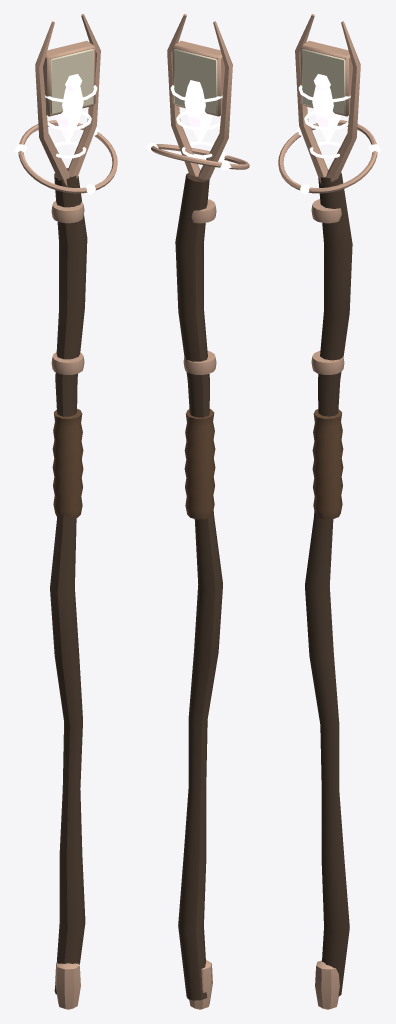
The model's file is fa_unwritten_chronicle.glb.
3 renders of one model, left to right at view 1: azimuth 30°, elevation 25°; view 2: azimuth 150°, elevation 25°; view 3: azimuth 330°, elevation 25°, orthographic.
Visible parts, largest first — view 1: fa_unwritten_chronicle; view 2: fa_unwritten_chronicle; view 3: fa_unwritten_chronicle.
Part boxes in pixels (box(x1,y1,x2,y2)): fa_unwritten_chronicle: box(14, 14, 117, 1009); fa_unwritten_chronicle: box(146, 14, 249, 1009); fa_unwritten_chronicle: box(278, 14, 381, 1009).
Bounding box in the file's own units: 0.1808 × 1.96 × 0.1783.
